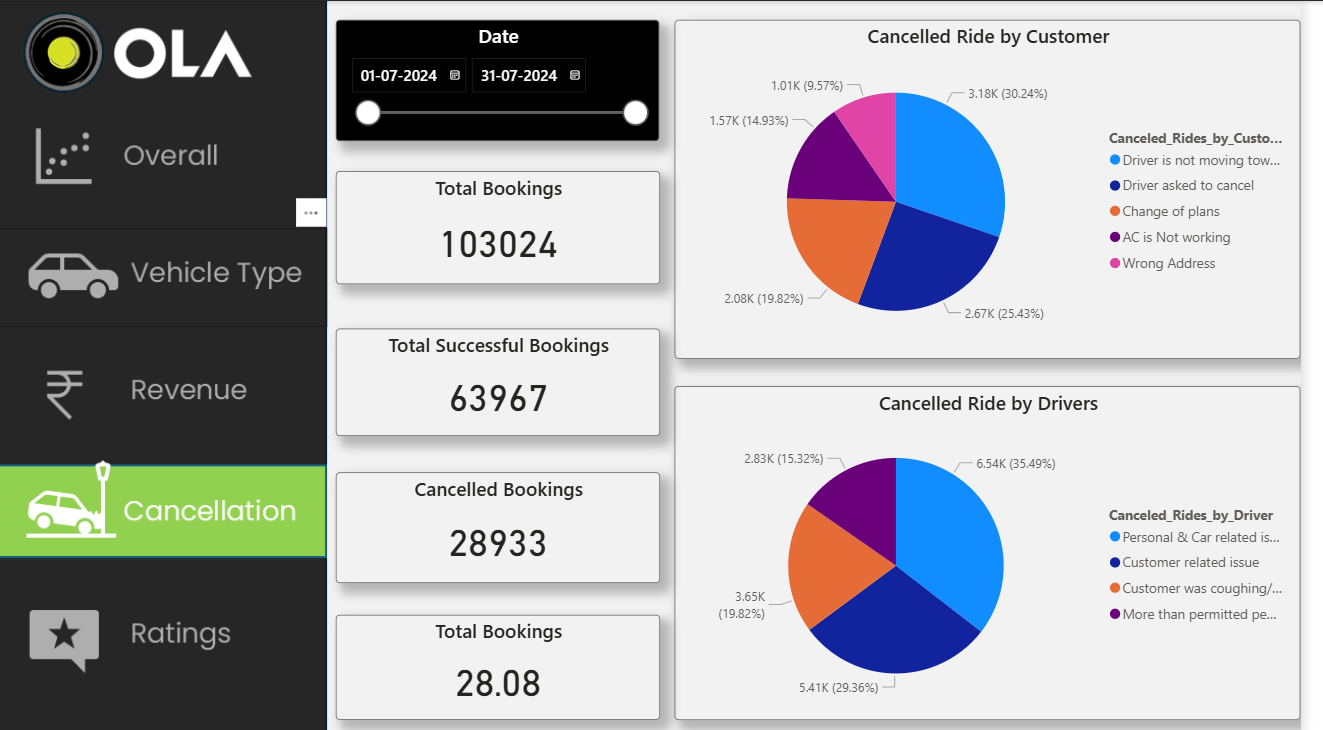

Layout of this report page (visuals, bound fields, positions):
{"tool":"powerbi","page":{"name":"Cancellation ","canvas":[1280,720],"ordinal":3},"visuals":[{"type":"actionButton","box":[0,108,322.7,96.9],"z":0},{"type":"actionButton","box":[1.2,223.3,322.7,96.9],"z":1000},{"type":"actionButton","box":[0,328.8,322.7,96.9],"z":2000},{"type":"actionButton","box":[0,450.3,322.7,96.9],"z":3000},{"type":"actionButton","box":[0,582.8,322.7,96.9],"z":4000},{"type":"pieChart","title":"Cancelled Ride by Customer","fields":{"Category":["Bookings.Canceled_Rides_by_Customer"],"Y":["CountNonNull(Bookings.Canceled_Rides_by_Customer)"]},"box":[665,18.4,614.7,332.5],"z":4001},{"type":"pieChart","title":"Cancelled Ride by Drivers","fields":{"Y":["CountNonNull(Bookings.Canceled_Rides_by_Driver)"],"Category":["Bookings.Canceled_Rides_by_Driver"]},"box":[665.5,377.4,614.8,328],"z":4002},{"type":"slicer","title":"Date ","fields":{"Values":["Bookings.Date"]},"box":[332.5,18.4,317.8,119],"z":4003},{"type":"card","title":"Total Bookings ","fields":{"Values":["Count(Bookings.Booking_ID)"]},"box":[332.1,167.4,318.4,111.1],"z":4004},{"type":"card","title":"Total Successful Bookings ","fields":{"Values":["Count(Bookings.Booking_ID)"]},"box":[332.1,321.1,318.4,105.7],"z":4005},{"type":"card","title":"Cancelled Bookings","fields":{"Values":["Count(Bookings.Booking_ID)"]},"box":[332.1,462.4,318.4,108.4],"z":4006},{"type":"card","title":"Total Bookings ","fields":{"Values":["Bookings.Canceled Percentage"]},"box":[332.1,602.4,318.4,102.9],"z":4007}]}

Visuals, with their boxes on the page's 1280x720 design canvas (x1, y1, x2, y2). These are canvas units, not pixel positions in the 1323x730 screenshot, which may show the page scaled, cropped or inside an application window:
actionButton: bbox=(0, 108, 323, 205)
actionButton: bbox=(1, 223, 324, 320)
actionButton: bbox=(0, 329, 323, 426)
actionButton: bbox=(0, 450, 323, 547)
actionButton: bbox=(0, 583, 323, 680)
"Cancelled Ride by Customer" pieChart: bbox=(665, 18, 1280, 351)
"Cancelled Ride by Drivers" pieChart: bbox=(666, 377, 1280, 705)
"Date " slicer: bbox=(332, 18, 650, 137)
"Total Bookings " card: bbox=(332, 167, 650, 278)
"Total Successful Bookings " card: bbox=(332, 321, 650, 427)
"Cancelled Bookings" card: bbox=(332, 462, 650, 571)
"Total Bookings " card: bbox=(332, 602, 650, 705)
